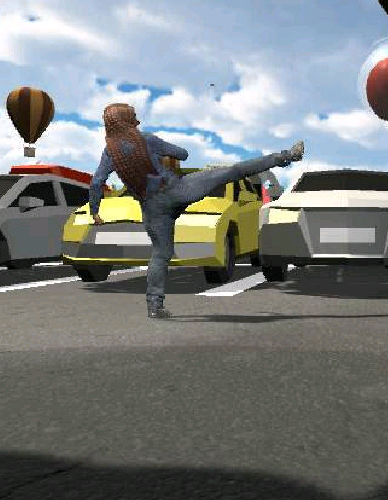turn_right: (91, 103, 314, 312)
